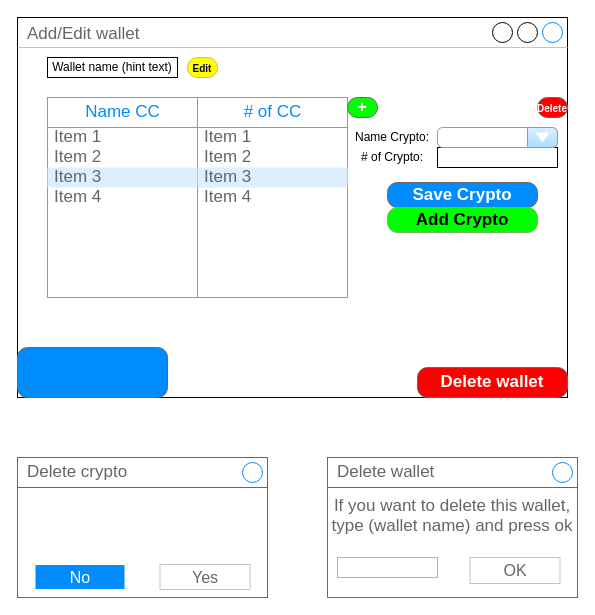
The diagram is 595 pixels wide and 615 high, and some of its shapes have lost their labels. Each missing label, with the centre of its shape:
"Are you sure you want to delete the crypto out of this wallet?" belongs at (x=142, y=527).
"Go to overview" belongs at (x=92, y=372).
"Option 1" belongs at (x=497, y=137).
